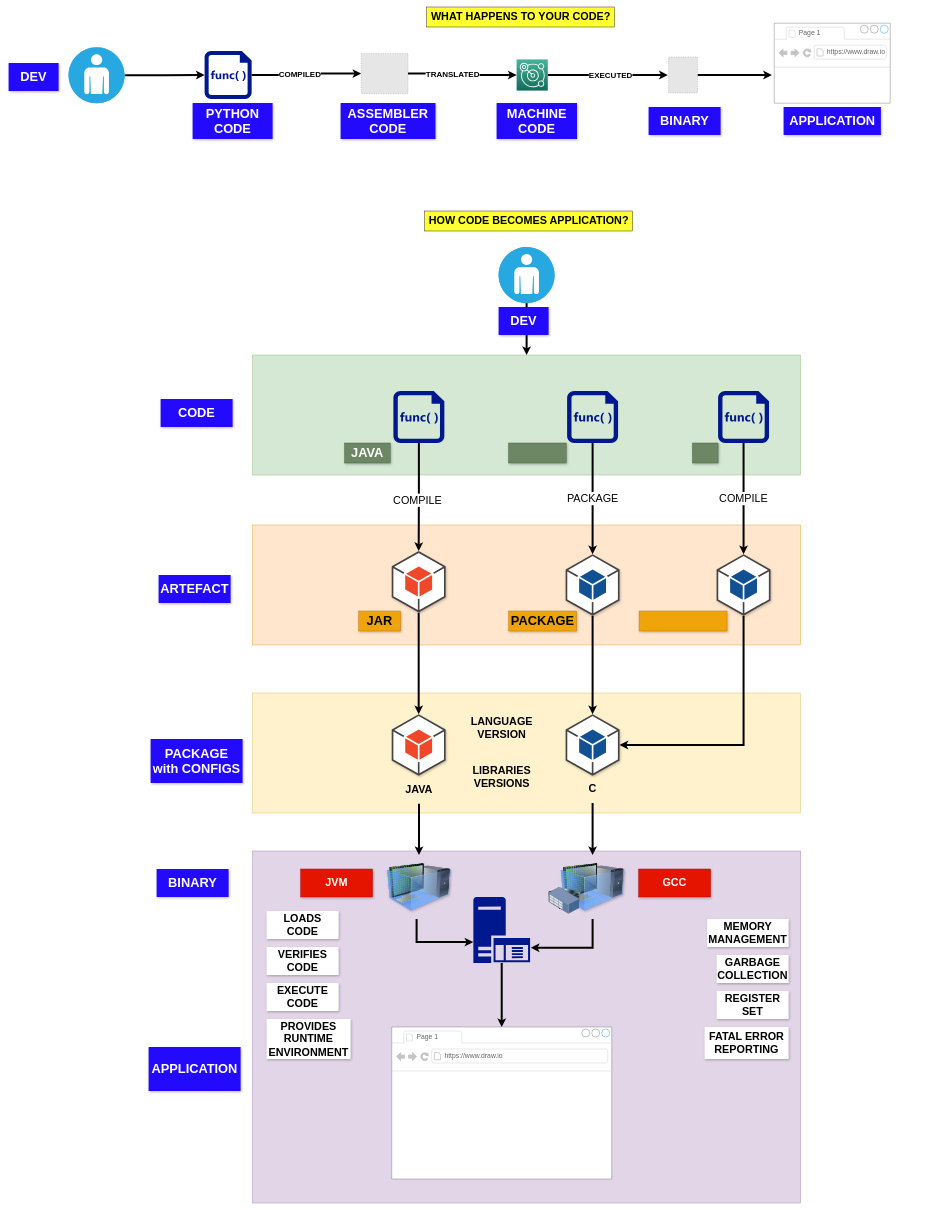
Image size: 933x1210. Some labels were removed from this diagram. Grey dashed boxes stand in for pictures. The shapes that lost their labels are listed below. From the top down, each one's centre as x and y in pixels, then its label:
(x=538, y=453): PYTHON
(x=705, y=453): C#
(x=683, y=621): EXECUTABLE
